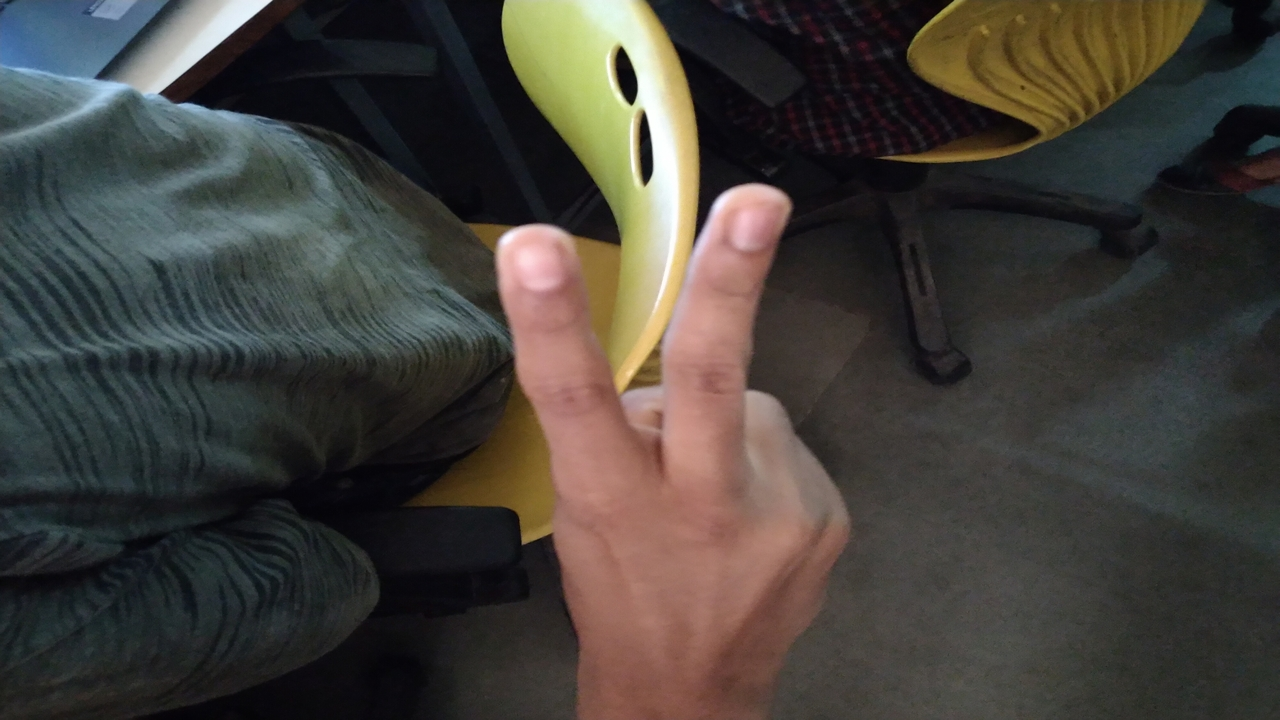fingertip: (484, 220, 580, 302), (702, 178, 798, 258)
